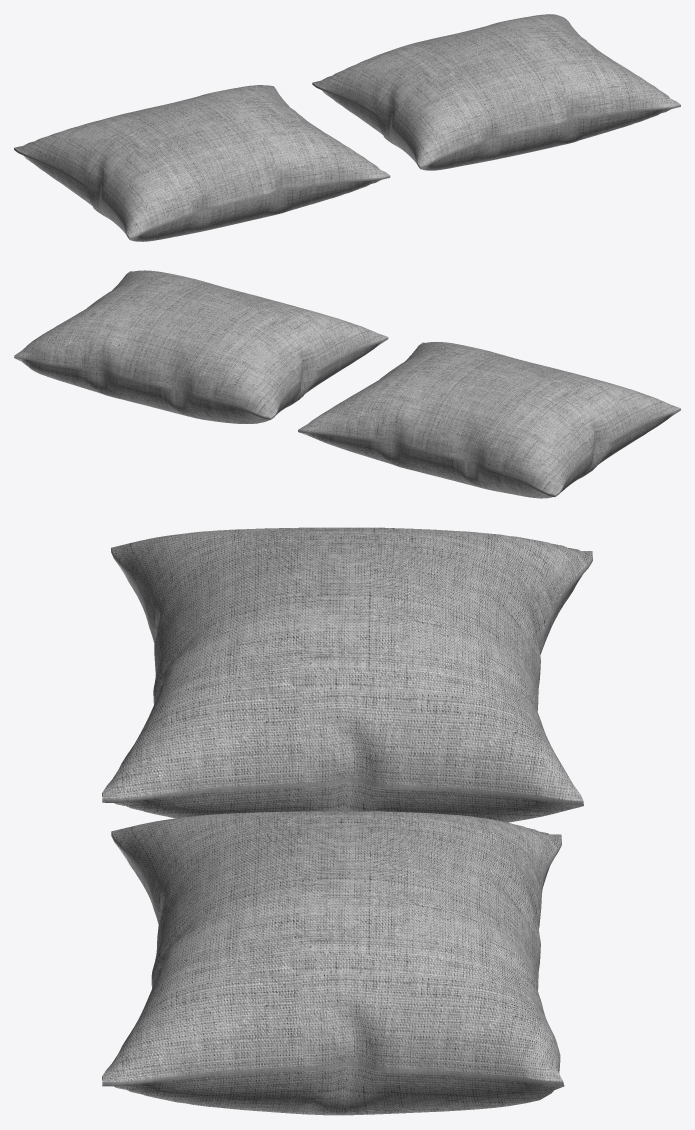
The model's file is pillow.FBX.
3 views of the same model, one above another, from view 1: azimuth 30°, elevation 25°; view 2: azimuth 150°, elevation 25°; view 3: azimuth 270°, elevation 25° (orthographic). The views are drawn at different scales.
Parts seen in each view (by area): view 1: Box002, Box003; view 2: Box002, Box003; view 3: Box003, Box002.
Boxes of the visible parts, left/top/right/bottom form: Box002: left=14, top=85, right=390, bottom=241; Box003: left=312, top=14, right=680, bottom=170; Box002: left=298, top=342, right=680, bottom=498; Box003: left=14, top=270, right=388, bottom=423; Box003: left=102, top=811, right=564, bottom=1115; Box002: left=102, top=527, right=592, bottom=822.
Bounding box in the file's own units: 101 × 14.92 × 38.94.
